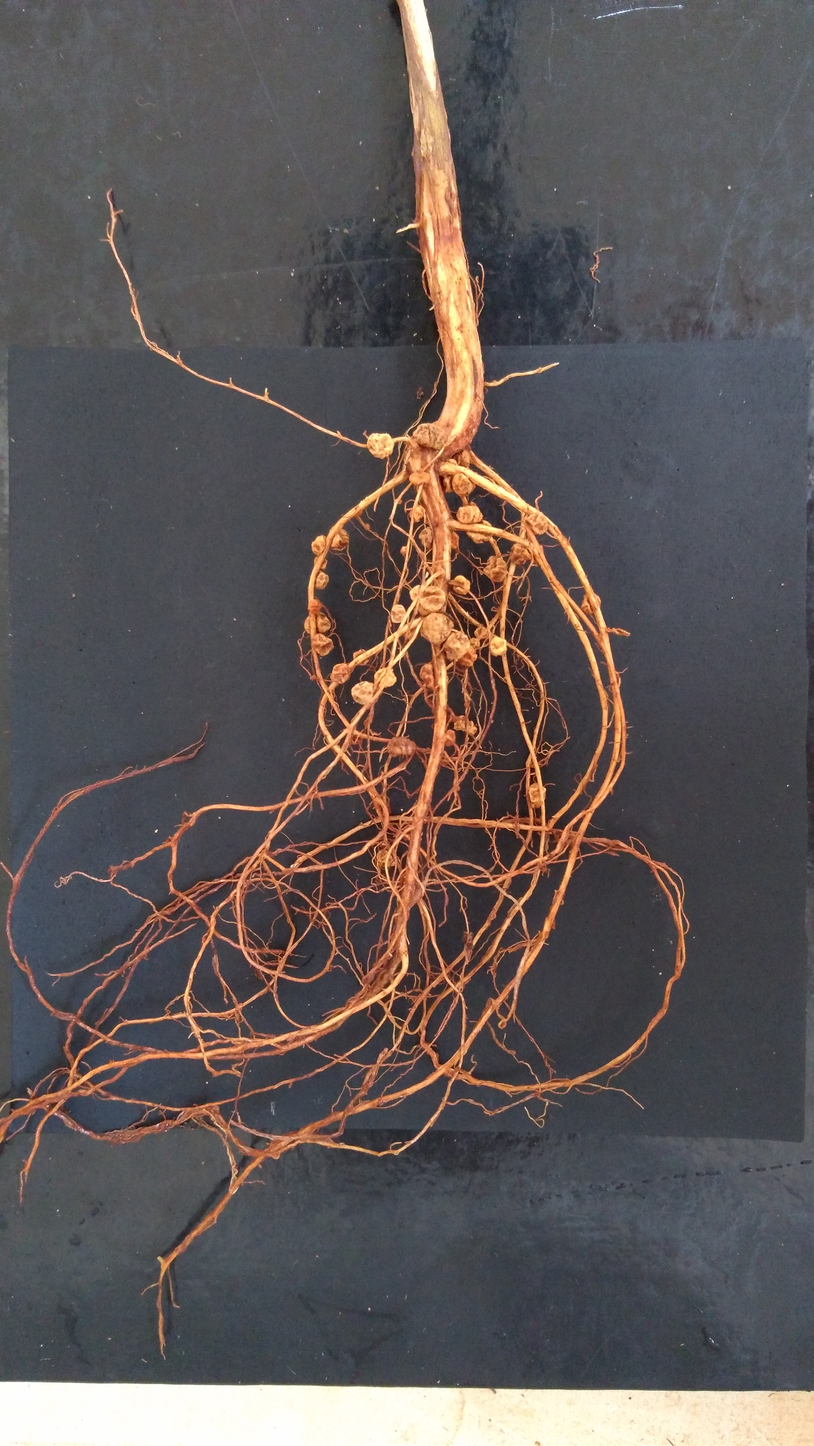nodule: (409, 584, 446, 616), (411, 423, 454, 450), (420, 613, 454, 644), (442, 627, 469, 662), (419, 663, 449, 690), (367, 432, 394, 459), (439, 457, 459, 492), (458, 638, 480, 669), (466, 519, 493, 544), (386, 735, 416, 757), (483, 555, 507, 582), (351, 681, 379, 704), (509, 543, 536, 566), (452, 471, 476, 496), (304, 612, 331, 634), (457, 502, 484, 524), (311, 633, 334, 657), (525, 512, 549, 535), (329, 525, 350, 550), (374, 666, 397, 688), (453, 715, 478, 735), (528, 782, 547, 808), (451, 448, 470, 473), (581, 592, 601, 615), (489, 635, 508, 657), (330, 663, 350, 683), (377, 849, 400, 866), (453, 574, 470, 595), (408, 504, 426, 523), (314, 569, 330, 590), (312, 534, 328, 555), (419, 526, 434, 548), (409, 470, 431, 485), (352, 648, 371, 665), (391, 604, 406, 624), (403, 623, 418, 640), (313, 555, 328, 570), (307, 598, 321, 614), (449, 529, 459, 550), (474, 625, 489, 639), (445, 729, 456, 746), (309, 672, 317, 681), (401, 546, 408, 555), (395, 498, 403, 504), (365, 523, 370, 530)
